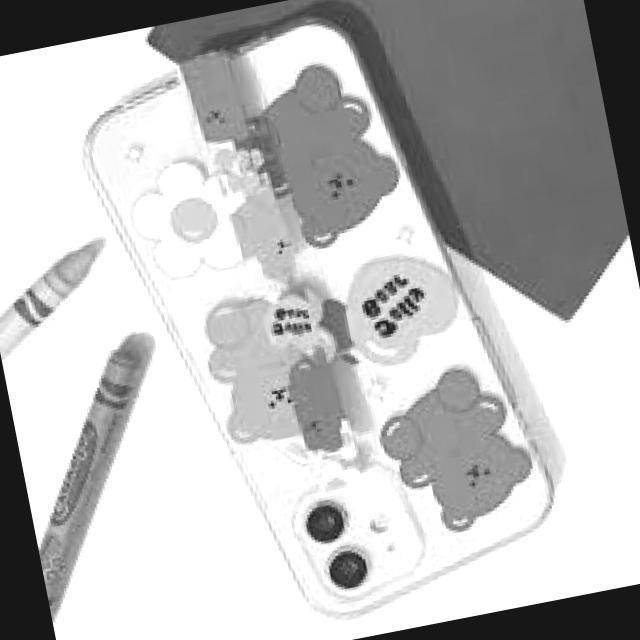lens: (299, 503, 383, 592)
phone: (83, 4, 556, 640)
